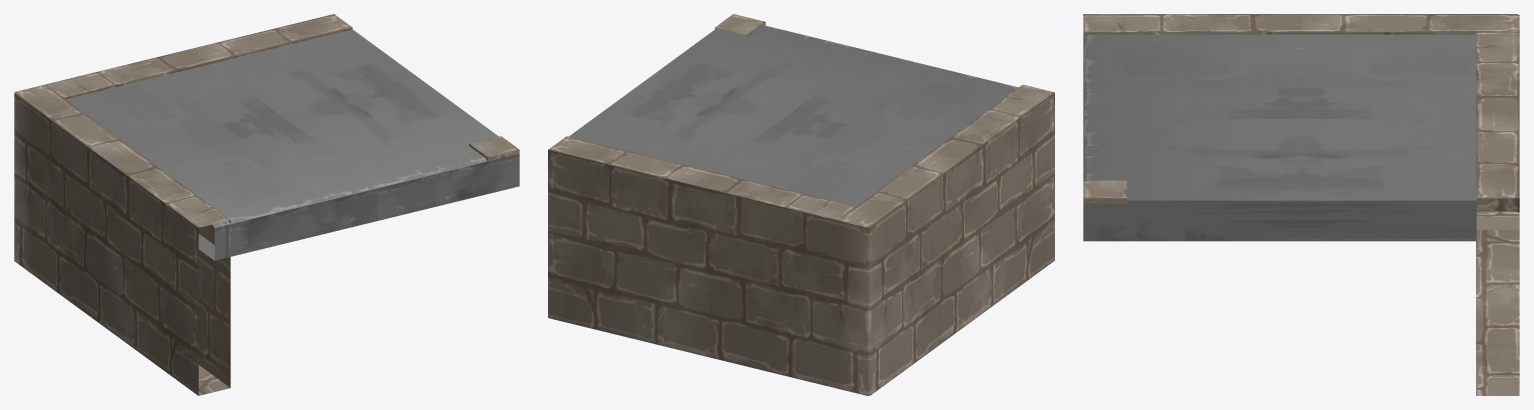
Rendered from Stairs_Exterior_Platform45.gltf.
3 renders of one model, left to right at view 1: azimuth 30°, elevation 25°; view 2: azimuth 150°, elevation 25°; view 3: azimuth 270°, elevation 25°, orthographic. The views are drawn at different scales.
Visible parts, largest first — view 1: Stairs_Exterior_Platform45; view 2: Stairs_Exterior_Platform45; view 3: Stairs_Exterior_Platform45.
Part boxes in pixels (left/top/right/bottom): Stairs_Exterior_Platform45: left=14, top=14, right=519, bottom=395; Stairs_Exterior_Platform45: left=548, top=14, right=1054, bottom=395; Stairs_Exterior_Platform45: left=1083, top=14, right=1519, bottom=395.
Bounding box in the file's own units: 2 × 1 × 2.
Materials: 2 (2 with a texture image).
